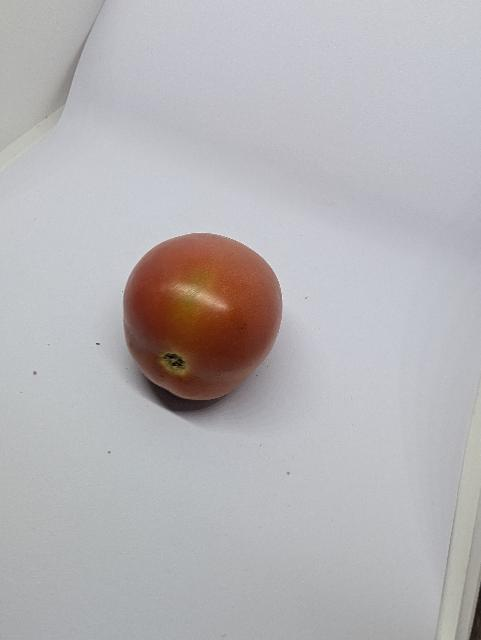turning: (121, 232, 288, 406)
